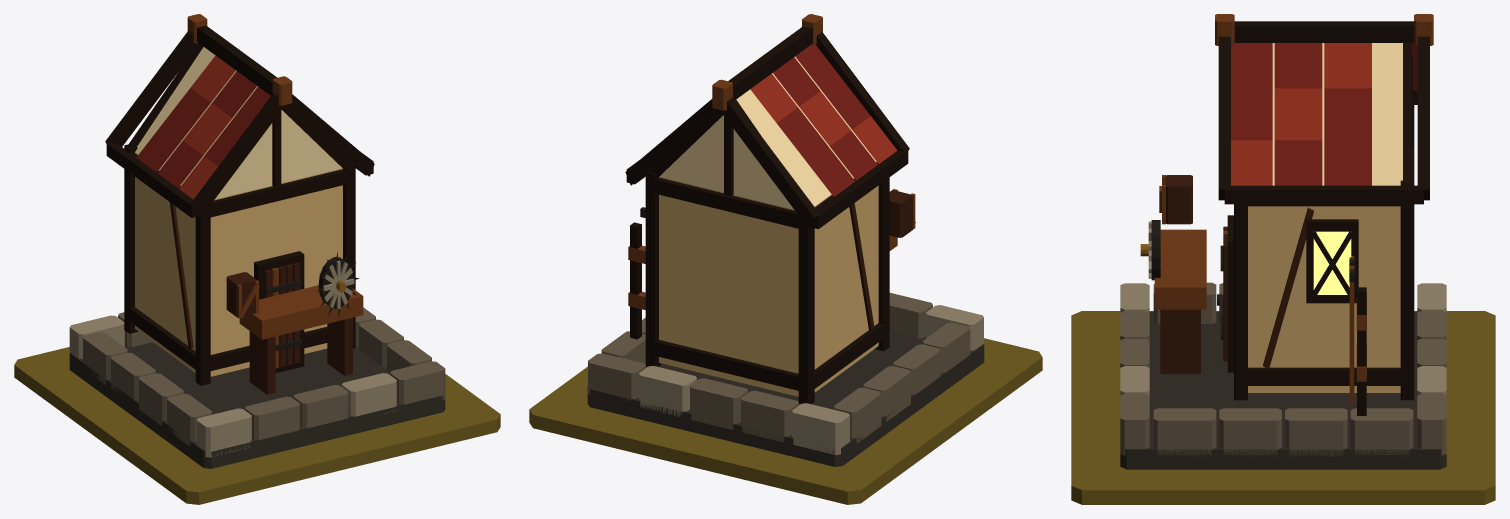
Rendered from workshop_t2.glb.
3 renders of one model, left to right at view 1: azimuth 30°, elevation 25°; view 2: azimuth 150°, elevation 25°; view 3: azimuth 270°, elevation 25°, orthographic. The views are drawn at different scales.
Visible parts, largest first — view 1: MMR | workshop | T02 Architecture.001, MMR | workshop | Tier 02 Ground.001; view 2: MMR | workshop | T02 Architecture.001, MMR | workshop | Tier 02 Ground.001; view 3: MMR | workshop | T02 Architecture.001, MMR | workshop | Tier 02 Ground.001.
Boxes of the visible parts, bbox=[...] form: MMR | workshop | T02 Architecture.001: bbox=[69, 14, 445, 468]; MMR | workshop | Tier 02 Ground.001: bbox=[14, 347, 500, 504]; MMR | workshop | T02 Architecture.001: bbox=[587, 14, 984, 466]; MMR | workshop | Tier 02 Ground.001: bbox=[529, 338, 1042, 504]; MMR | workshop | T02 Architecture.001: bbox=[1120, 14, 1446, 469]; MMR | workshop | Tier 02 Ground.001: bbox=[1071, 311, 1495, 504].
Size of the model in its own units: 1.3 by 1.34 by 1.3.
2 materials, 1 textured.
